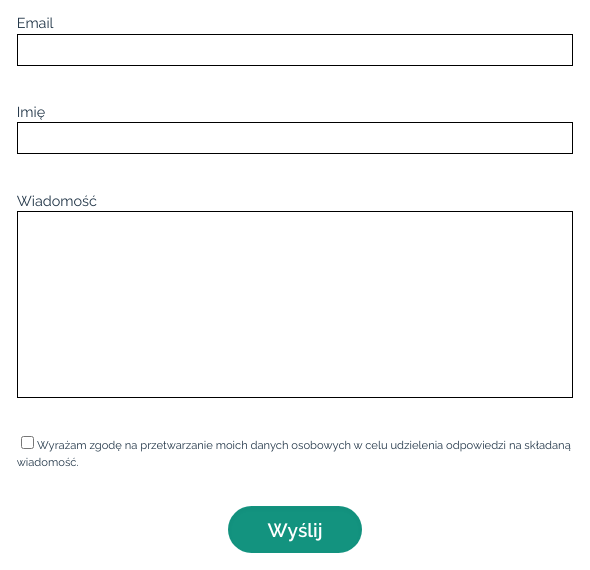
Test: Contact › Should submit the form successfully
The image size is (590, 570).
Type "test@example.com" into the field with test id "contact-form_email".
click(295, 50); type("test@example.com")  # box [17,34,573,66]
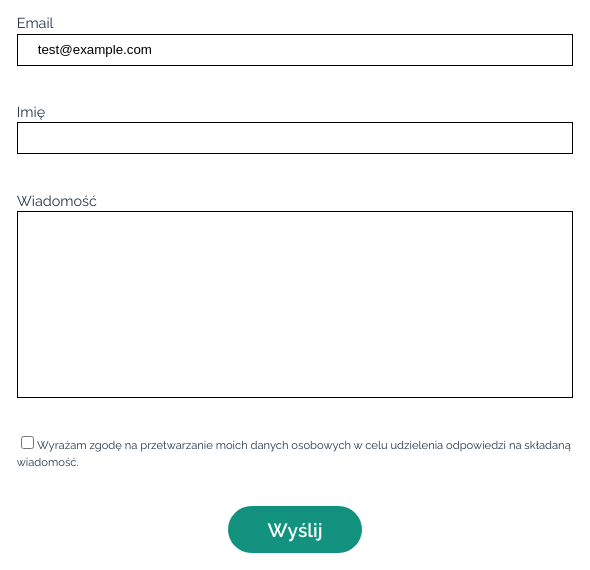
Type "John" into the field with test id "contact-form_name".
click(295, 138); type("John")  # box [17,122,573,154]
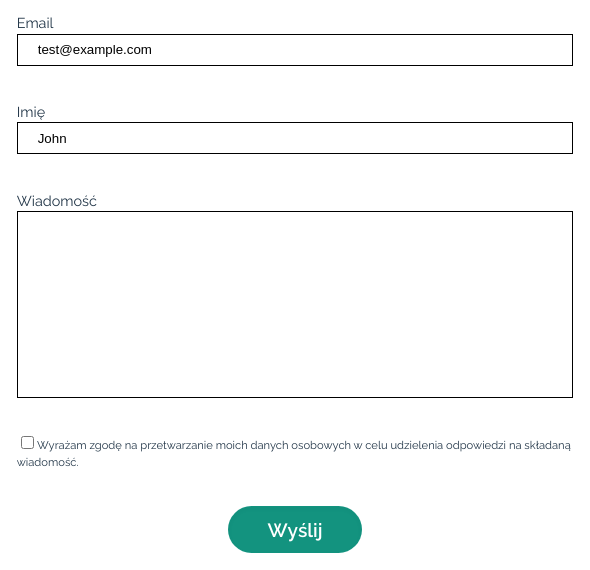
Type "Lorem ipsum dolor sit amet, consectetur adipiscing elit. Maecenas sed urna non orci porta ornare. Fusce at finibus mi, a aliquet nunc. Mauris sagittis sagittis nisi, quis egestas ante tristique ac." into the text box with test id "contact-form_message".
click(295, 305); type("Lorem ipsum dolor sit amet, consectetur adipiscing elit. Maecenas sed urna non orci porta ornare. Fusce at finibus mi, a aliquet nunc. Mauris sagittis sagittis nisi, quis egestas ante tristique ac.")  # box [17,211,573,398]
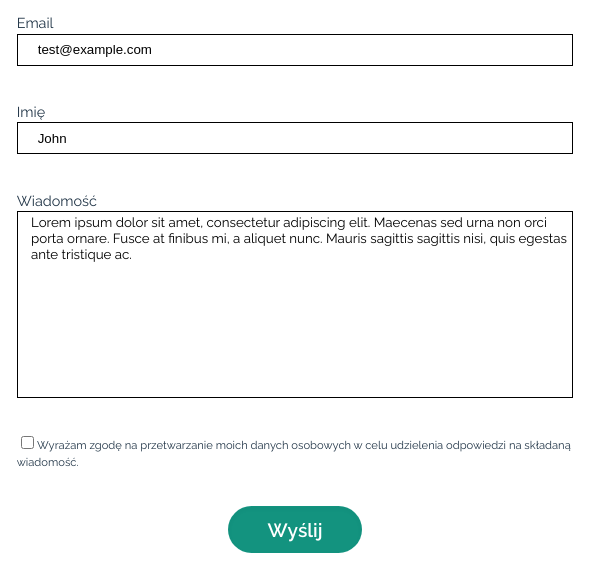
Click the checkbox with test id "contact-form_agreeTerms".
click(27, 443)  # box [21,436,34,449]
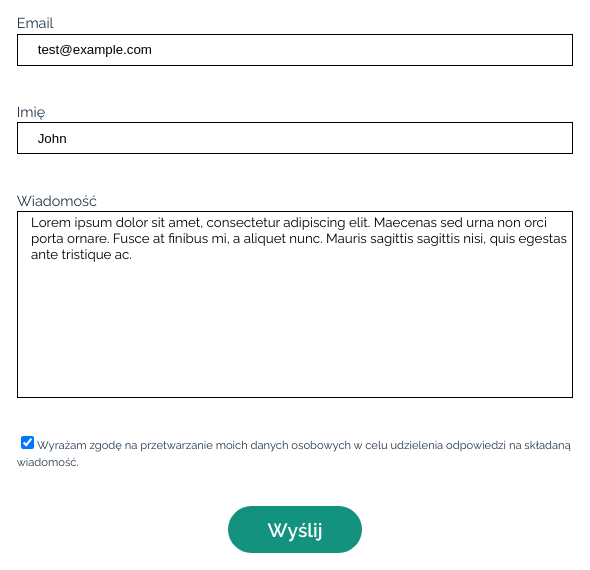
Submit the form
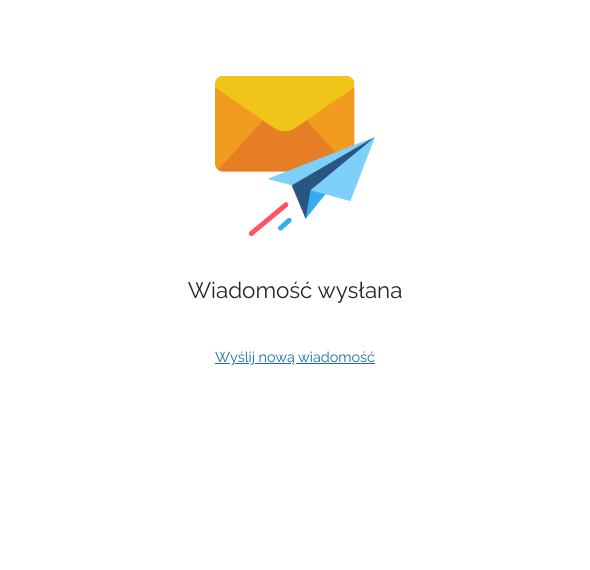
Expected: the text "Wiadomość wysłana" is shown, [188,274,402,308]
